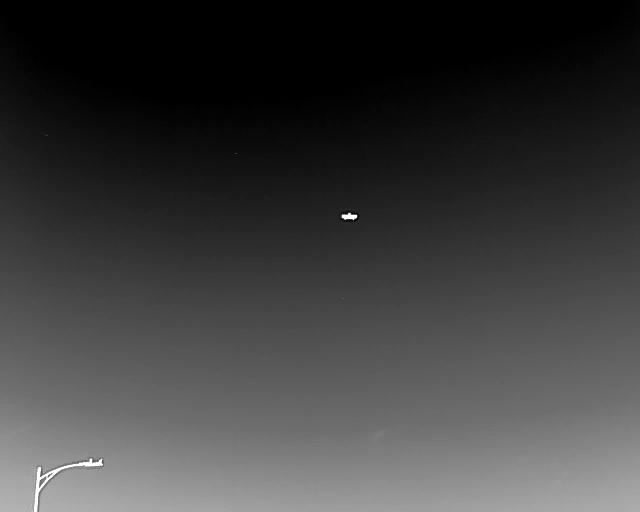fpv-drone: (340, 211, 359, 221)
